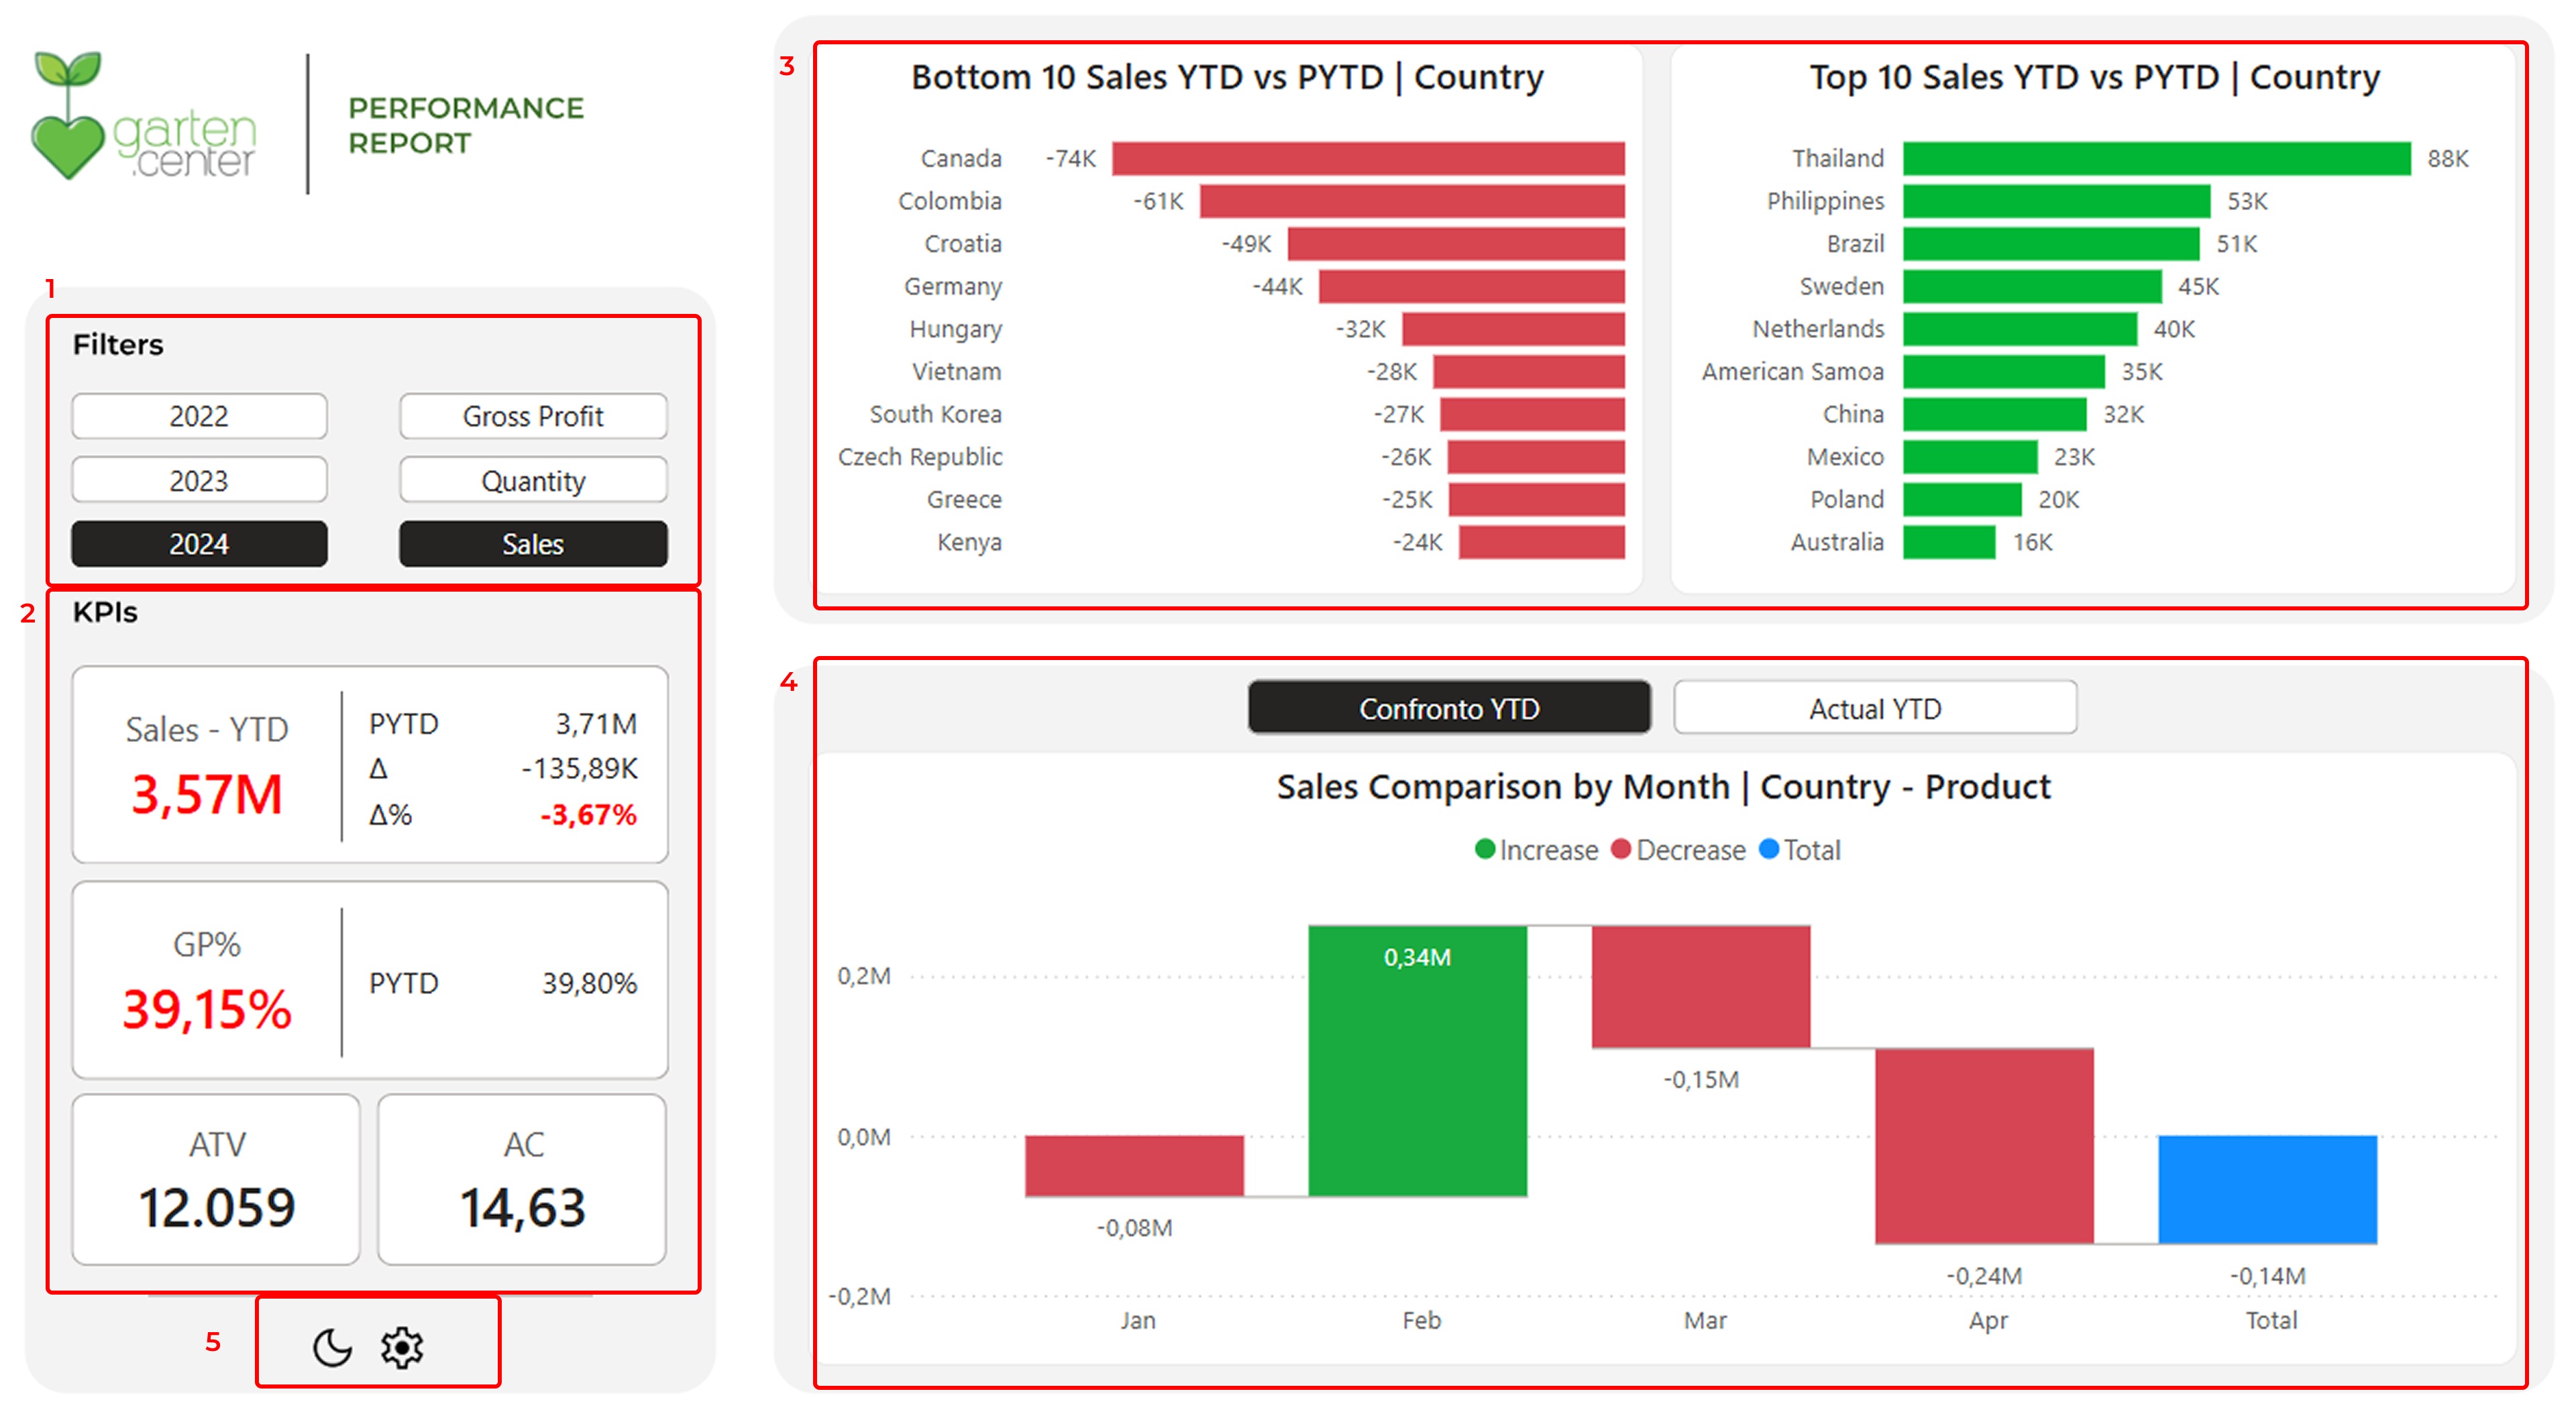

The page's visual inventory and layout, read from the dashboard file:
{"tool":"powerbi","page":{"name":"Confronto YTD","canvas":[1280,720],"ordinal":0},"visuals":[{"type":"cardVisual","fields":{"Data":["_Measures.YTD","_Measures.GP%"]},"box":[41.9,331.9,301.4,213.6],"z":0},{"type":"advancedSlicerVisual","fields":{"Values":["Dim_Date.Year"]},"box":[41.9,200.4,135.2,95],"z":1000},{"type":"advancedSlicerVisual","title":"KPIs","fields":{"Values":["prmValues.Values"]},"box":[201.4,200.4,141.9,95],"z":2000},{"type":"waterfallChart","fields":{"Y":["_Measures.YTD vs PYTD"],"Category":["Dim_Date.Month","Dim_Account.country","Dim_Product.Produt_Type","Dim_Product.Product_Name"]},"box":[405.5,379.8,831.3,298.7],"z":3000},{"type":"clusteredBarChart","fields":{"Category":["Dim_Account.country"],"Y":["_Measures.YTD vs PYTD"]},"box":[405.5,35.1,406.9,269],"z":4000},{"type":"clusteredBarChart","fields":{"Category":["Dim_Account.country"],"Y":["_Measures.YTD vs PYTD"]},"box":[824.5,35.1,412.3,269],"z":6000},{"type":"cardVisual","fields":{"Data":["_Measures.Mean Transaction Value","_Measures.Average Cost Per Unit"]},"box":[41.9,541,301.4,94.6],"z":7000},{"type":"image","box":[156.8,650.2,35.1,39.2],"z":8000},{"type":"image","box":[190,650,35,39],"z":9000},{"type":"pageNavigator","box":[618.5,345.3,405.9,27.1],"z":10000}]}

Visuals, with their boxes in screenshot pixels (x1, y1, x2, y2), scaled from the page's 1280x720 canvas onto the 2576x1414 screenshot:
cardVisual - _Measures.YTD x _Measures.GP%: rect(85, 652, 691, 1071)
advancedSlicerVisual - Dim_Date.Year: rect(85, 394, 356, 580)
"KPIs" advancedSlicerVisual: rect(405, 394, 691, 580)
waterfallChart - _Measures.YTD vs PYTD x Dim_Date.Month: rect(816, 746, 2489, 1332)
clusteredBarChart - Dim_Account.country x _Measures.YTD vs PYTD: rect(816, 69, 1635, 597)
clusteredBarChart - Dim_Account.country x _Measures.YTD vs PYTD: rect(1660, 69, 2489, 597)
cardVisual - _Measures.Mean Transaction Value x _Measures.Average Cost Per Unit: rect(85, 1063, 691, 1248)
image: rect(315, 1277, 386, 1354)
image: rect(382, 1276, 453, 1353)
pageNavigator: rect(1245, 678, 2061, 731)
